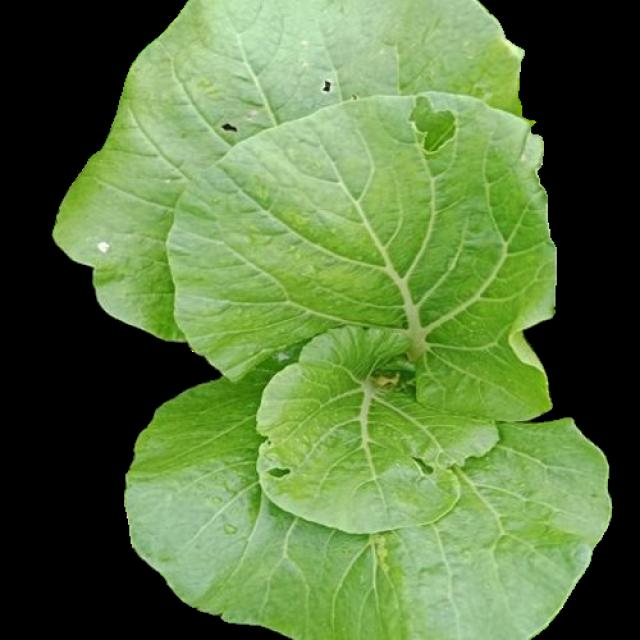mature: (52, 1, 612, 640)
unhealthy: (55, 4, 556, 340), (129, 374, 608, 631), (169, 97, 558, 383), (254, 329, 502, 527)
